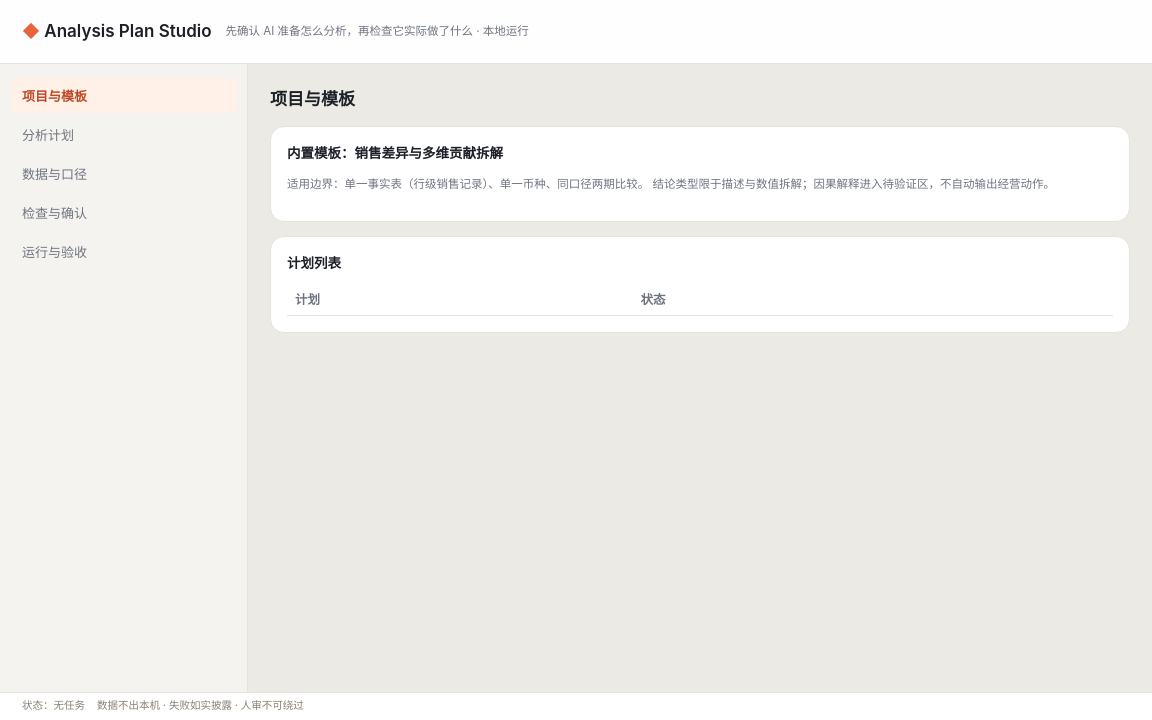
Analysis Plan Studio UI 冒烟 › 从模板创建草稿并推进到数据页
Click the button "分析计划" at (124, 134), box [10,117,237,152]
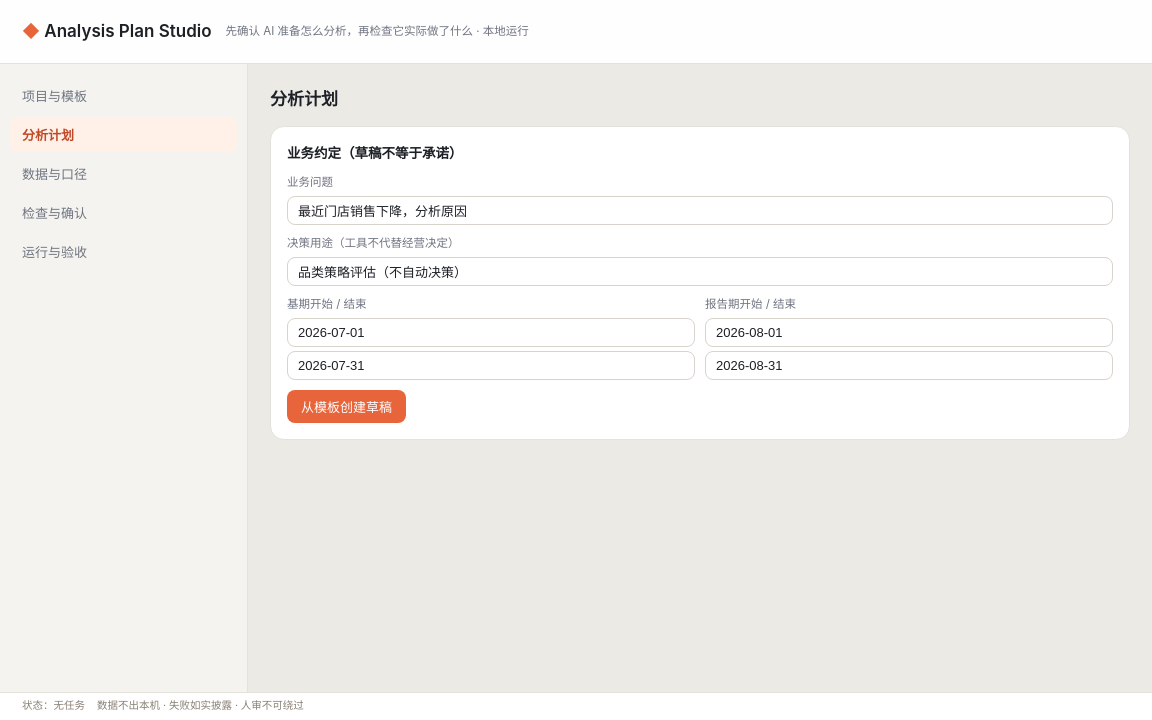
Click the button "从模板创建草稿" at (346, 406), box [287,390,406,423]
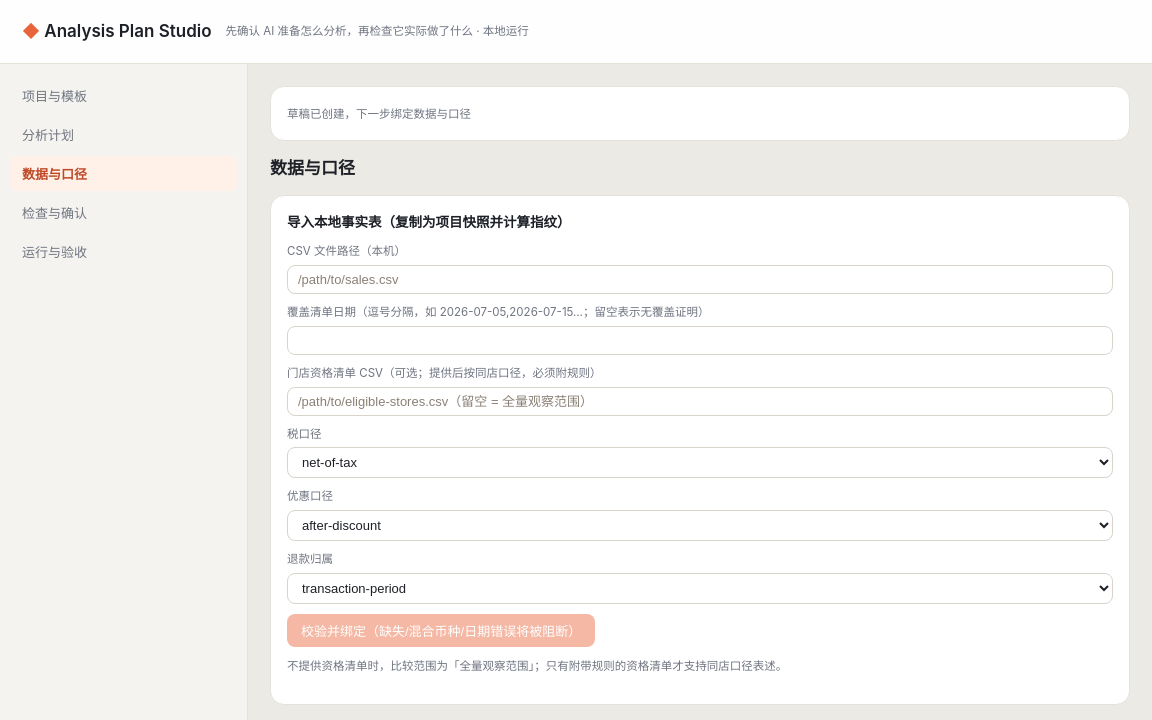
Expected: the heading "数据与口径" is shown, [270,158,355,178]
Expected: the button "校验并绑定（缺失/混合币种/日期错误将被阻断）" is disabled, [287,614,595,647]
